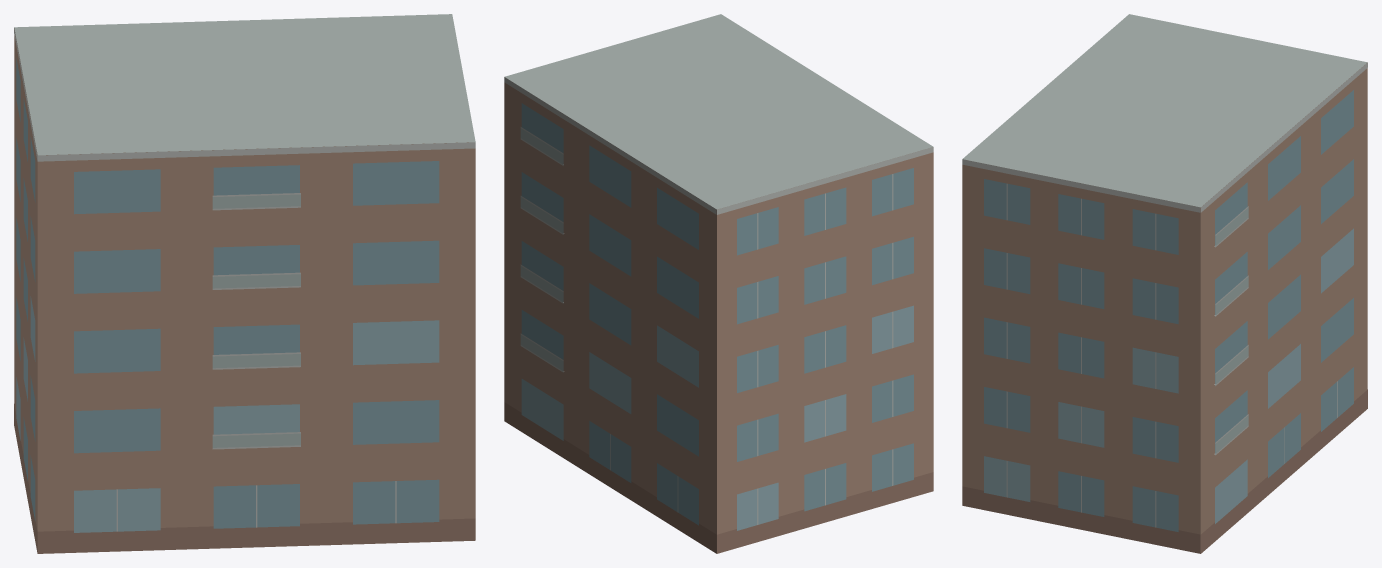
Rendered from survey-upis-32959657.glb.
3 views of the same model, side by side, from view 1: azimuth 30°, elevation 25°; view 2: azimuth 150°, elevation 25°; view 3: azimuth 270°, elevation 25° (orthographic). The views are drawn at different scales.
Visible parts, largest first — view 1: survey-upis-32959657.tmp; view 2: survey-upis-32959657.tmp; view 3: survey-upis-32959657.tmp.
Boxes of the visible parts, bbox=[...] form: survey-upis-32959657.tmp: bbox=[14, 14, 475, 553]; survey-upis-32959657.tmp: bbox=[504, 14, 933, 553]; survey-upis-32959657.tmp: bbox=[962, 14, 1367, 553].
Bounding box in the file's own units: 18.5 × 15.45 × 16.39.
